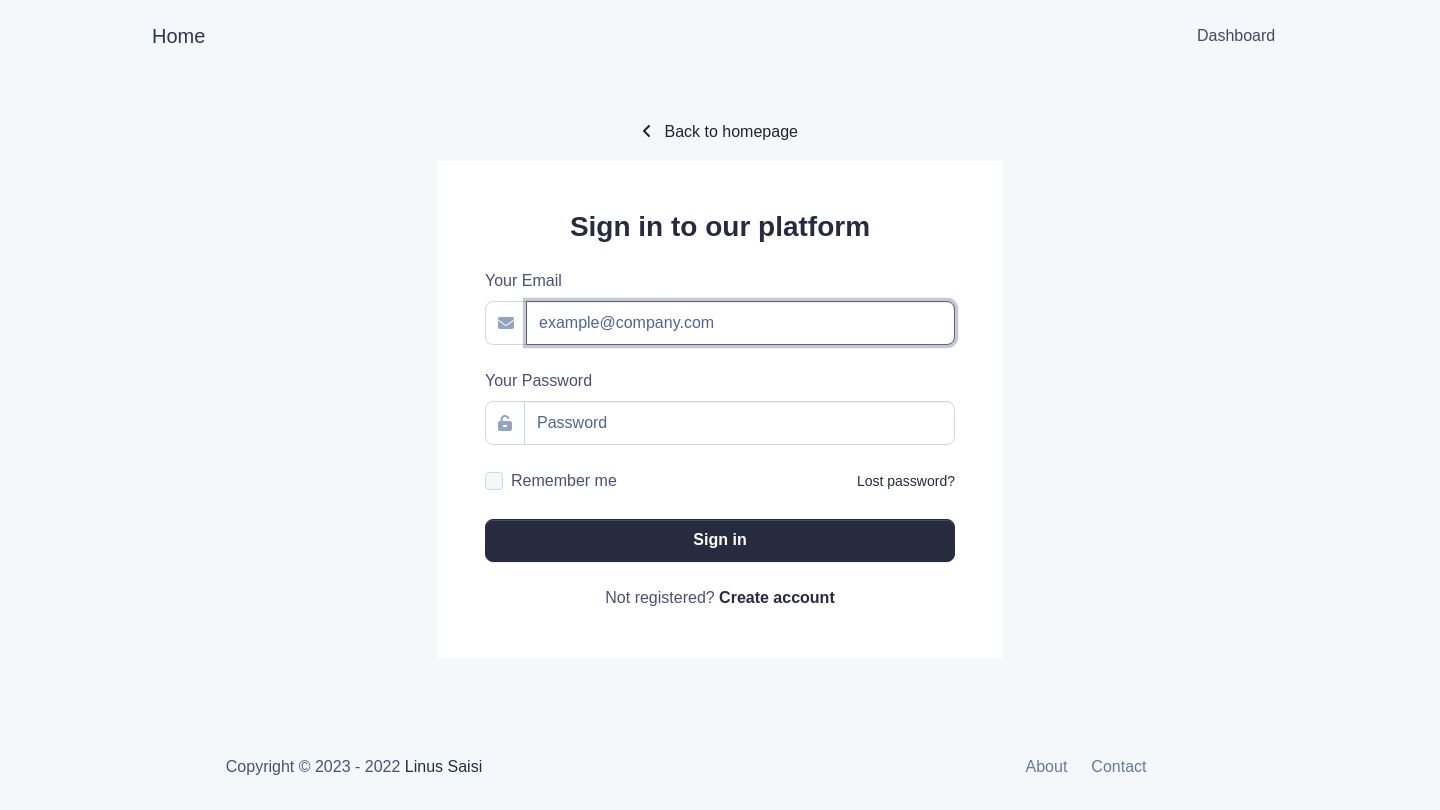
it: Login › lost password link works
The width and height of the screenshot is (1440, 810).
Click the link "Lost password?". click: coordinates (906, 482)
box: [857,471,955,492]
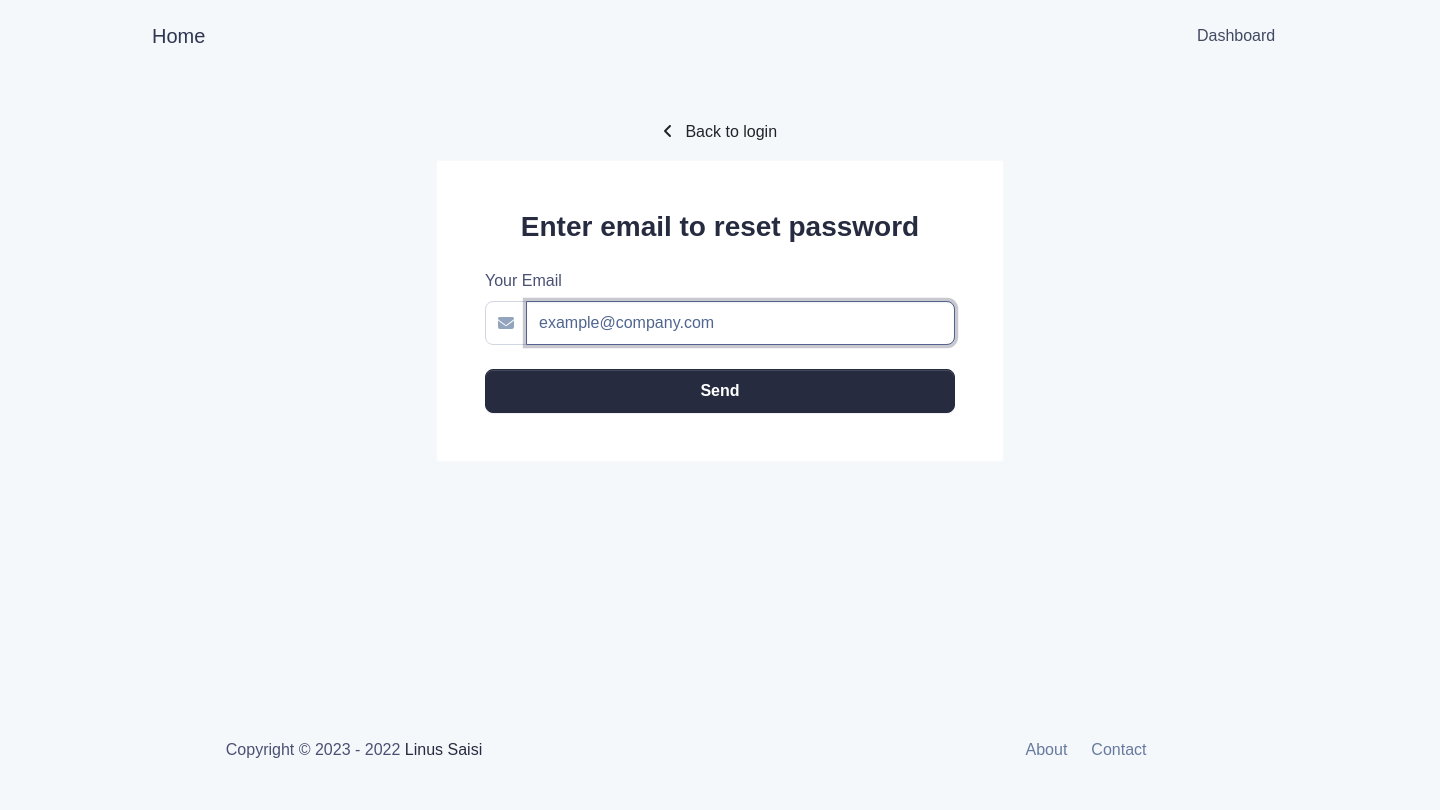
Expected: the heading "Enter email to reset password" is shown, [521,211,919,242]
